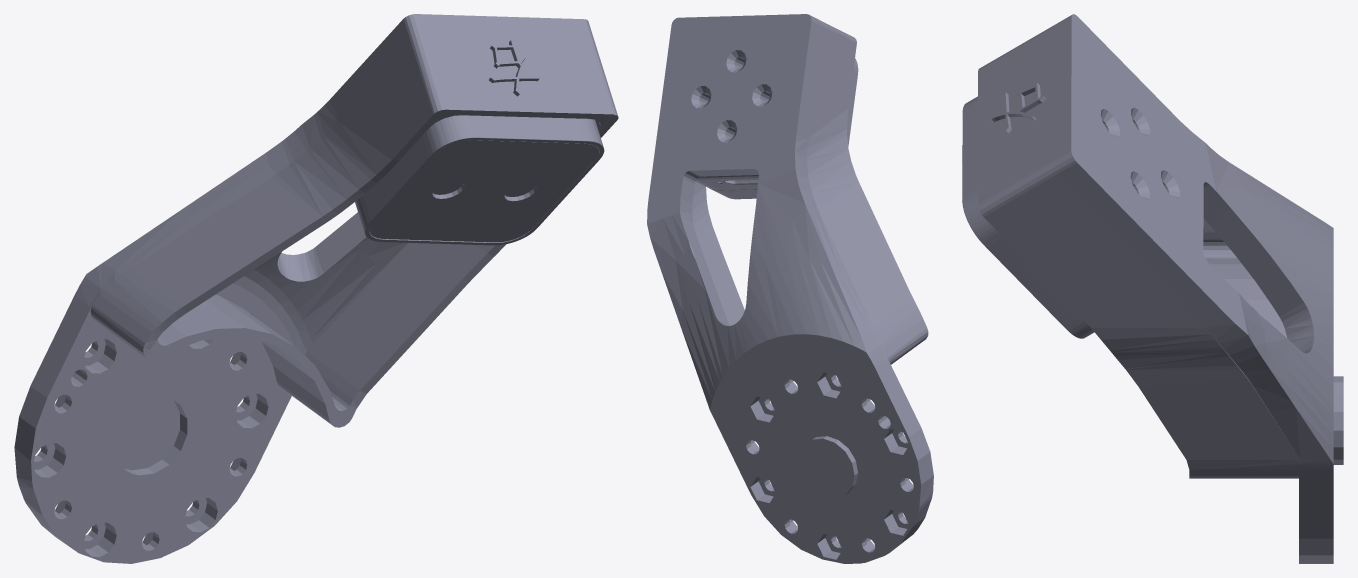
The model's file is falan2_visuals.obj.
3 views of the same model, side by side, from view 1: azimuth 30°, elevation 25°; view 2: azimuth 150°, elevation 25°; view 3: azimuth 270°, elevation 25° (orthographic). The views are drawn at different scales.
Size of the model in its own units: 0.1091 by 0.1361 by 0.0766.
